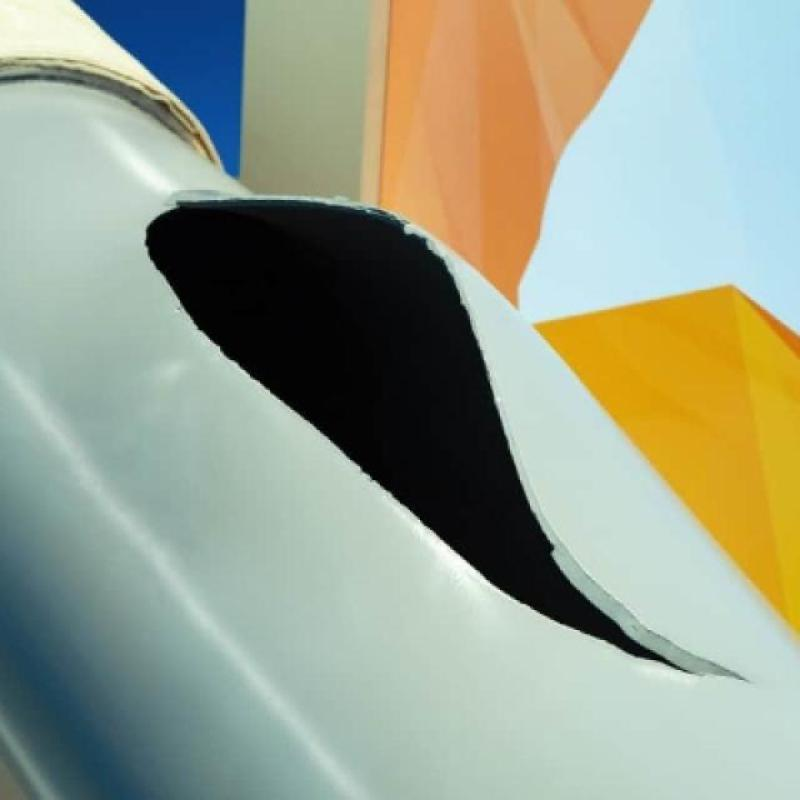Fracture: (107, 190, 735, 680)
